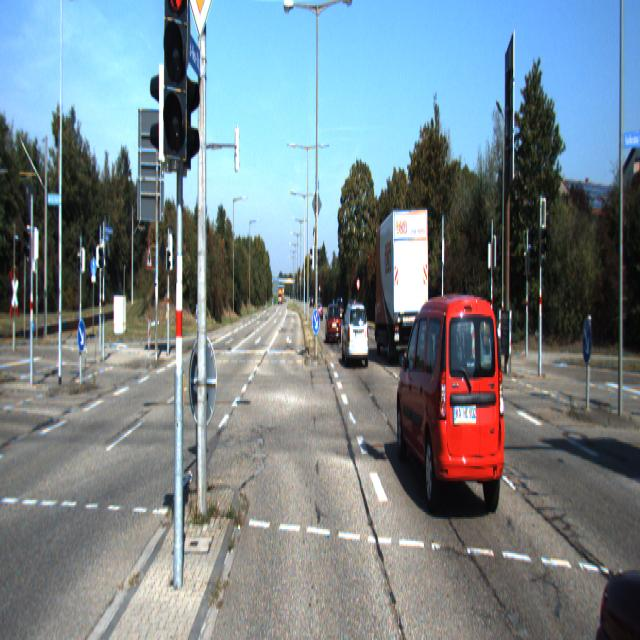Car: (395, 284, 507, 532), (589, 373, 639, 638), (452, 302, 494, 354), (342, 301, 369, 370), (326, 303, 341, 345)
DontCare: (310, 288, 324, 320), (277, 288, 282, 304)
Truck: (372, 204, 429, 368)
